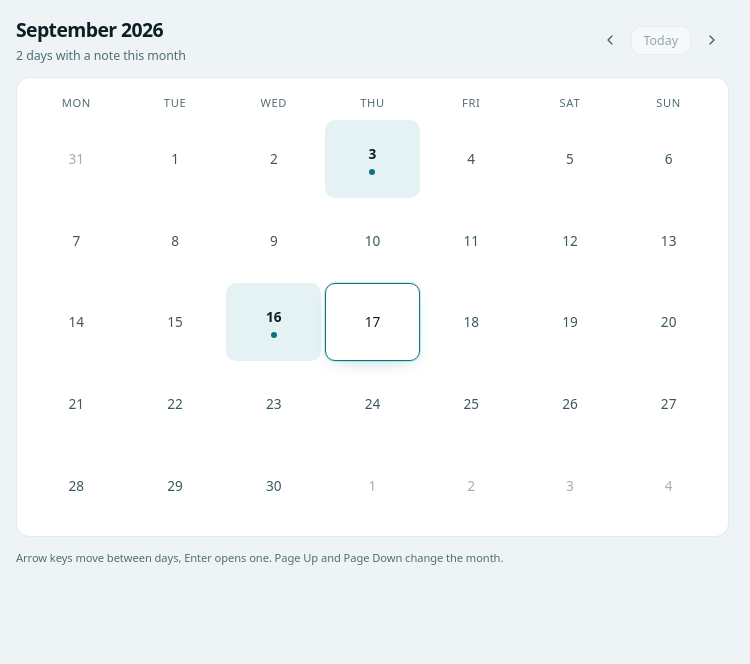
Test: the journal calendar › pages by month with the buttons and comes back to today
Click the button named "Next month" at (712, 40), box x1=695 y1=23 x2=729 y2=57
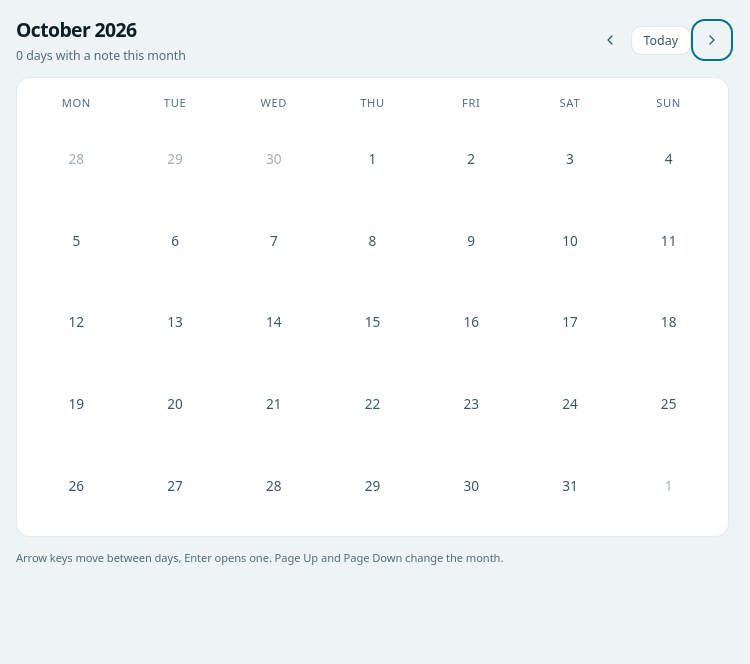
Result: the heading "October 2026" is shown at x1=16 y1=16 x2=137 y2=43
Click the button named "Previous month" at (610, 40), box x1=593 y1=23 x2=627 y2=57
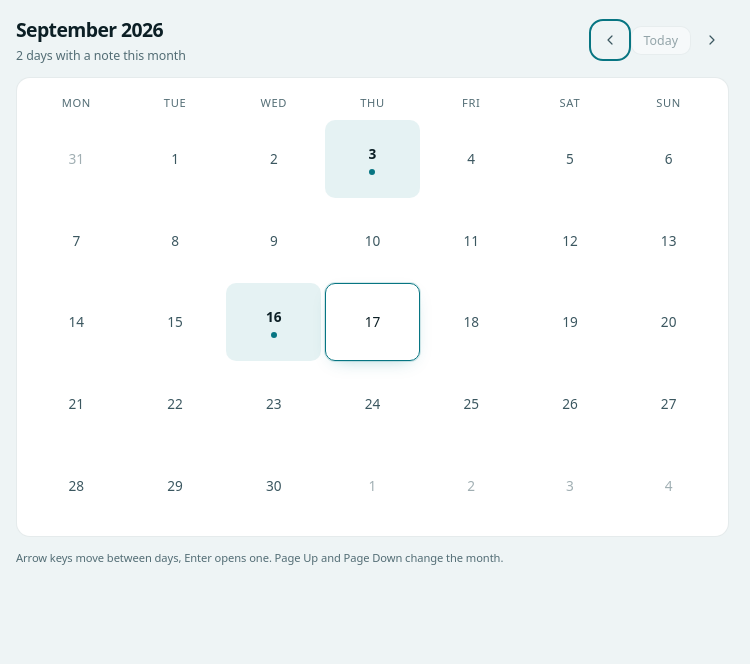
Click the button named "Previous month" at (610, 40), box x1=593 y1=23 x2=627 y2=57
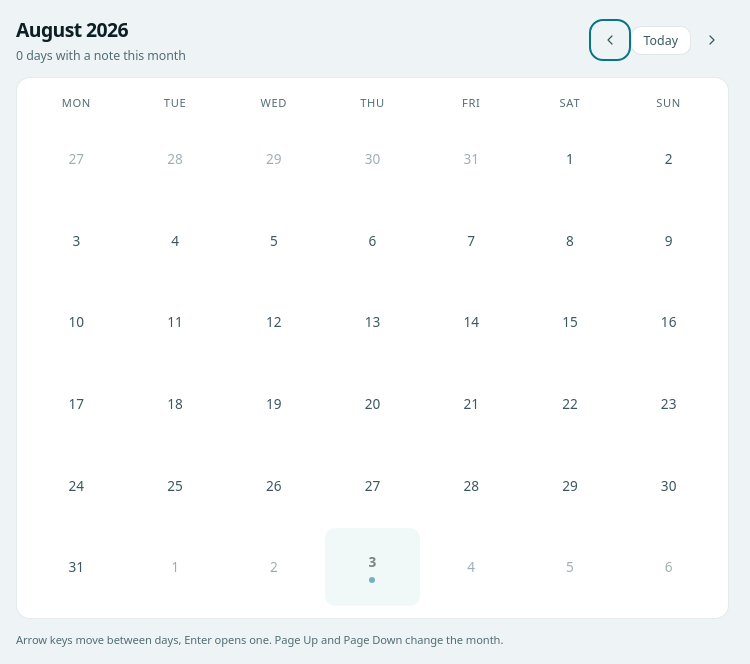
Result: the heading "August 2026" is shown at x1=16 y1=16 x2=128 y2=43
Click the button "Today" at (661, 40), box x1=631 y1=26 x2=691 y2=55
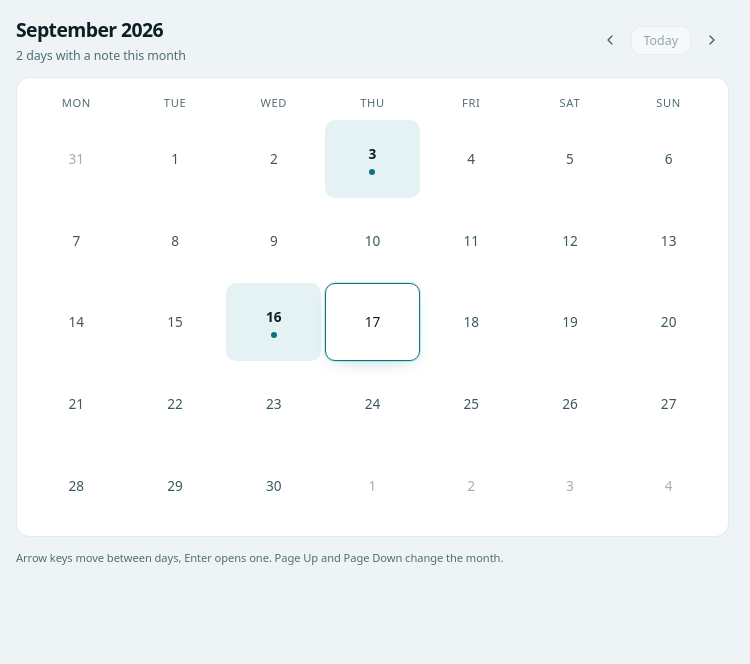
Result: the heading "September 2026" is shown at x1=16 y1=16 x2=163 y2=43
